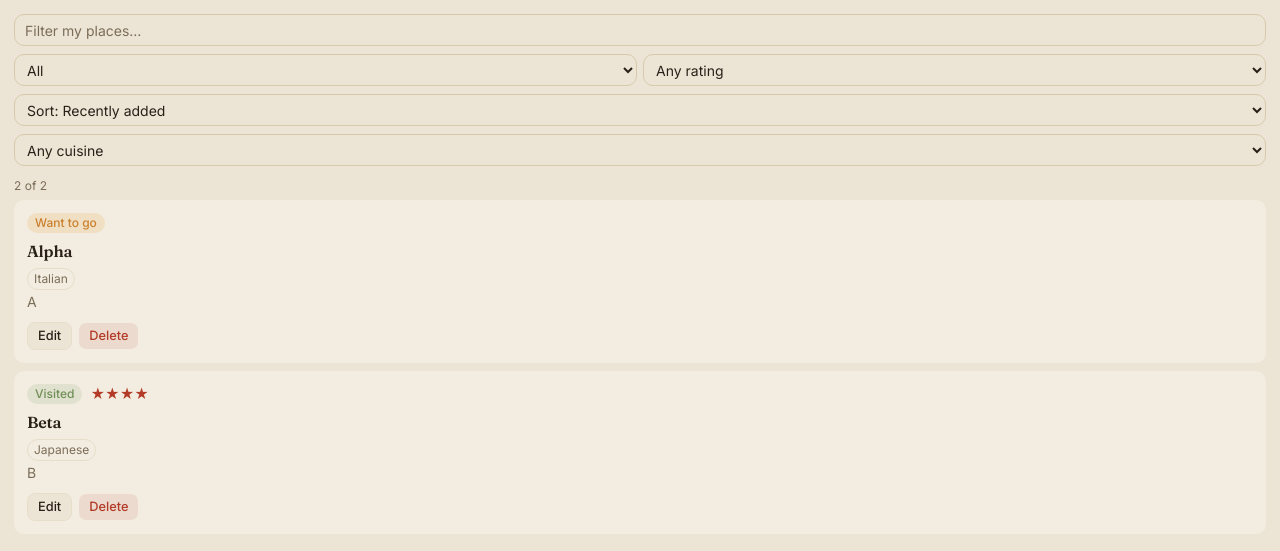
Test: PlaceList › shows an empty state when nothing matches
This screenshot has width=1280, height=551.
Type "nonexistent place" into the field with placeholder "Filter my places…" at (640, 30), box [14,14,1266,46]
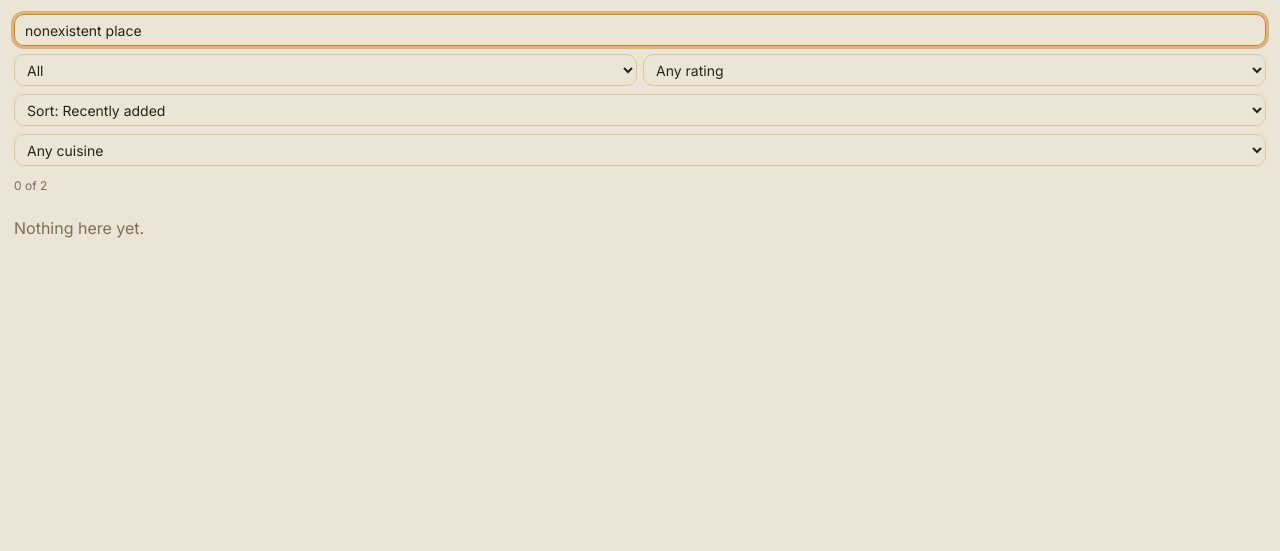
Now the list item "Nothing here yet." is shown, box [14,218,144,238]
